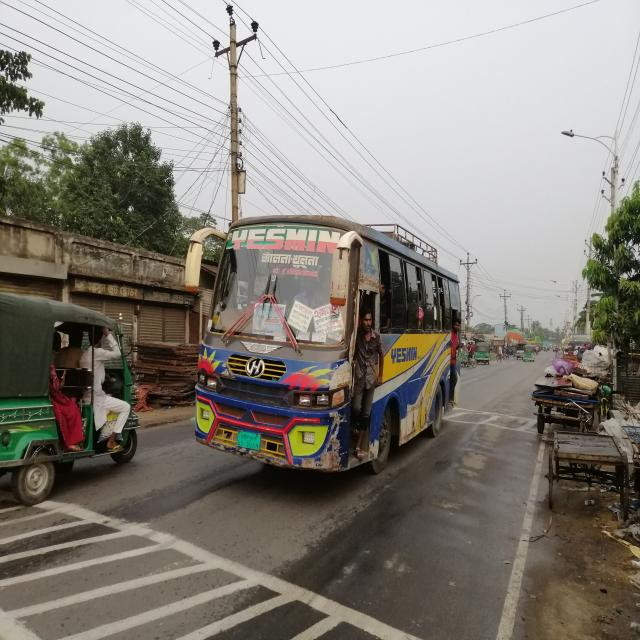Bus: (184, 215, 468, 485)
CNG: (1, 293, 151, 508)
